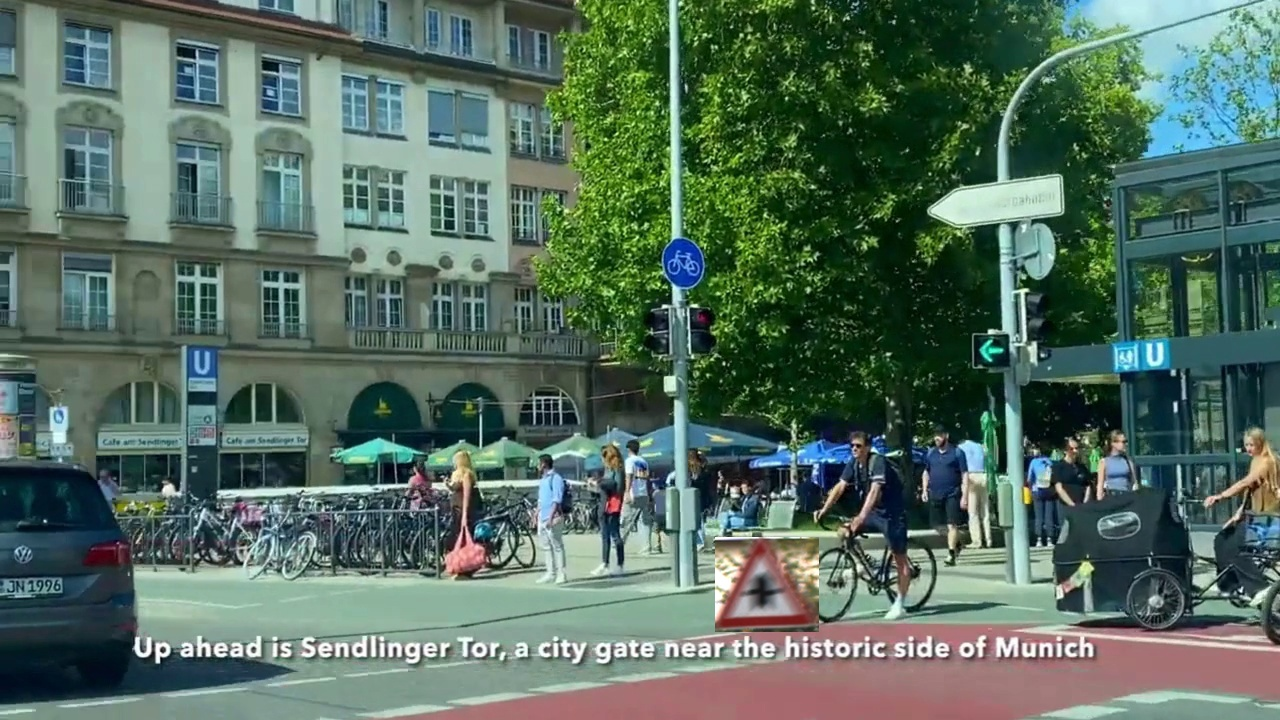Right-of-way: (715, 537, 819, 632)
